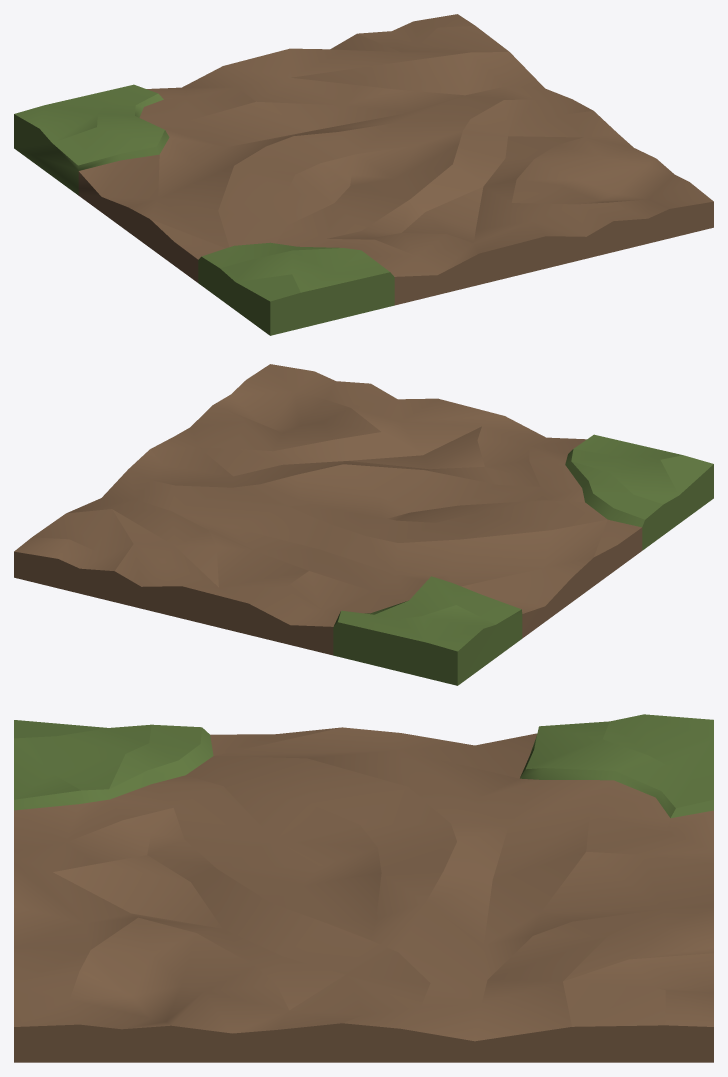
Rendered from Ground_Path_Entrance_L.glb.
The picture shows the model from 3 angles, top to bottom: view 1: azimuth 30°, elevation 25°; view 2: azimuth 150°, elevation 25°; view 3: azimuth 270°, elevation 25°; orthographic projection. The views are drawn at different scales.
Visible parts, largest first — view 1: Ground_Path_Entrance_L; view 2: Ground_Path_Entrance_L; view 3: Ground_Path_Entrance_L.
Part boxes in pixels (bbox=[...]): Ground_Path_Entrance_L: bbox=[14, 14, 713, 335]; Ground_Path_Entrance_L: bbox=[14, 364, 713, 685]; Ground_Path_Entrance_L: bbox=[14, 714, 713, 1062].
Size of the model in its own units: 1.47 by 0.1341 by 1.47.
